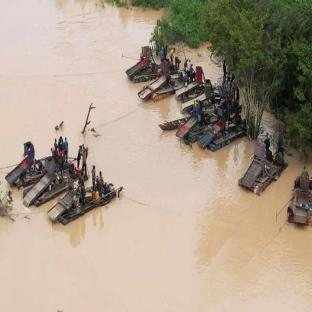ProcessingEquipment: (176, 99, 247, 153), (47, 176, 120, 227), (21, 164, 88, 207), (238, 147, 290, 198), (127, 45, 176, 85), (287, 177, 312, 227)
